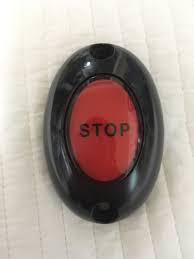bell: (42, 40, 170, 227)
